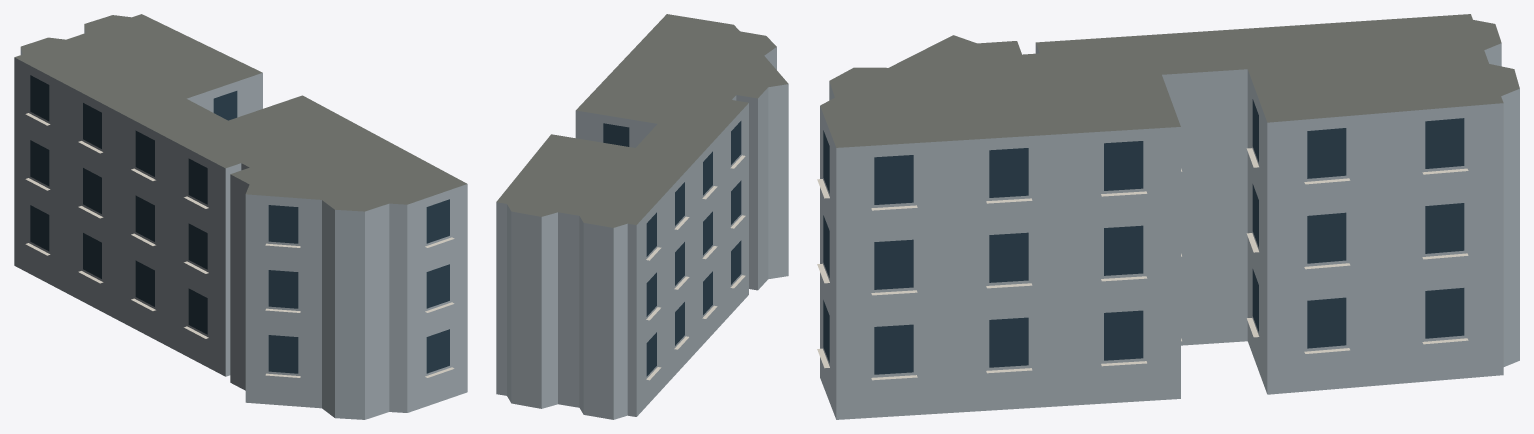
The picture shows the model from 3 angles, left to right: view 1: azimuth 30°, elevation 25°; view 2: azimuth 150°, elevation 25°; view 3: azimuth 270°, elevation 25°; orthographic projection. The views are drawn at different scales.
Parts seen in each view (by area): view 1: Footprint 0, Inferred window bays, Window sills; view 2: Footprint 0, Inferred window bays, Window sills; view 3: Footprint 0, Inferred window bays, Window sills.
Boxes of the visible parts, x1,y1,x2,y2 form: Footprint 0: [14, 14, 467, 419]; Inferred window bays: [30, 75, 449, 373]; Window sills: [25, 113, 454, 377]; Footprint 0: [496, 14, 788, 419]; Inferred window bays: [603, 121, 741, 376]; Window sills: [646, 155, 745, 380]; Footprint 0: [820, 14, 1519, 419]; Inferred window bays: [823, 99, 1464, 374]; Window sills: [817, 148, 1468, 380].
Size of the model in its own units: 10.06 by 9.38 by 21.97.
